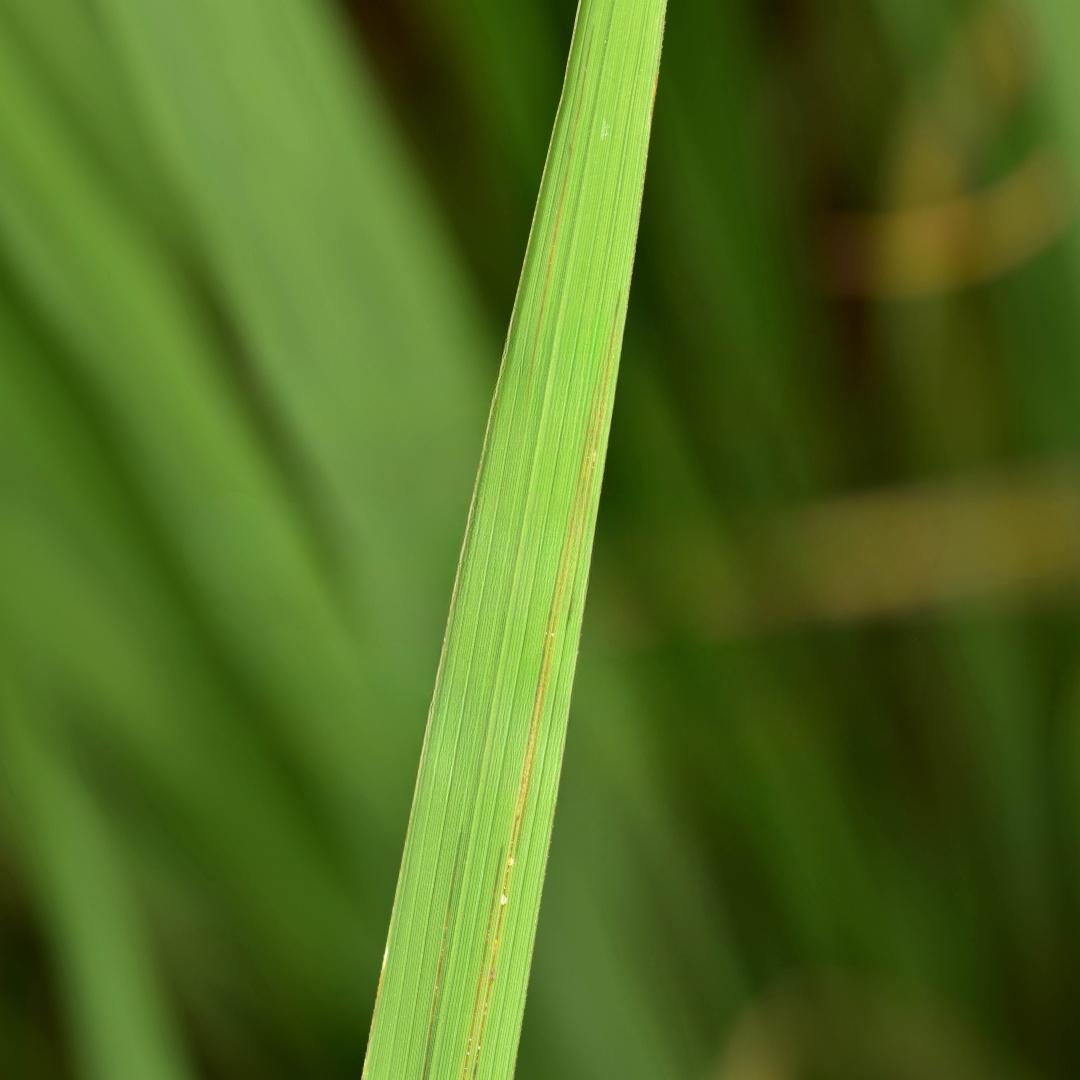BLS: (473, 404, 599, 1079), (579, 290, 618, 551), (422, 826, 461, 1079), (463, 847, 503, 1078)
LEAF: (362, 0, 665, 1079)
